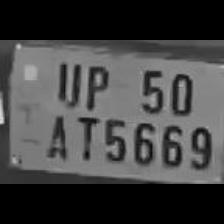0: (166, 66, 195, 116)
5: (100, 114, 128, 164), (135, 65, 164, 113)
6: (127, 118, 156, 168), (157, 121, 183, 169)
9: (185, 122, 213, 170)
A: (40, 108, 72, 160)
P: (80, 58, 110, 110)
T: (72, 111, 98, 160)
U: (52, 57, 82, 106)
